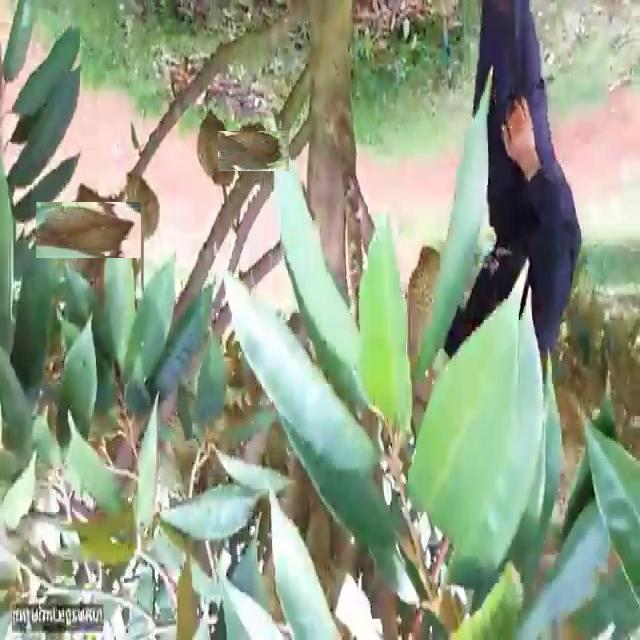durian: (48, 189, 129, 271), (196, 102, 235, 192), (120, 166, 162, 244), (226, 123, 282, 179)
